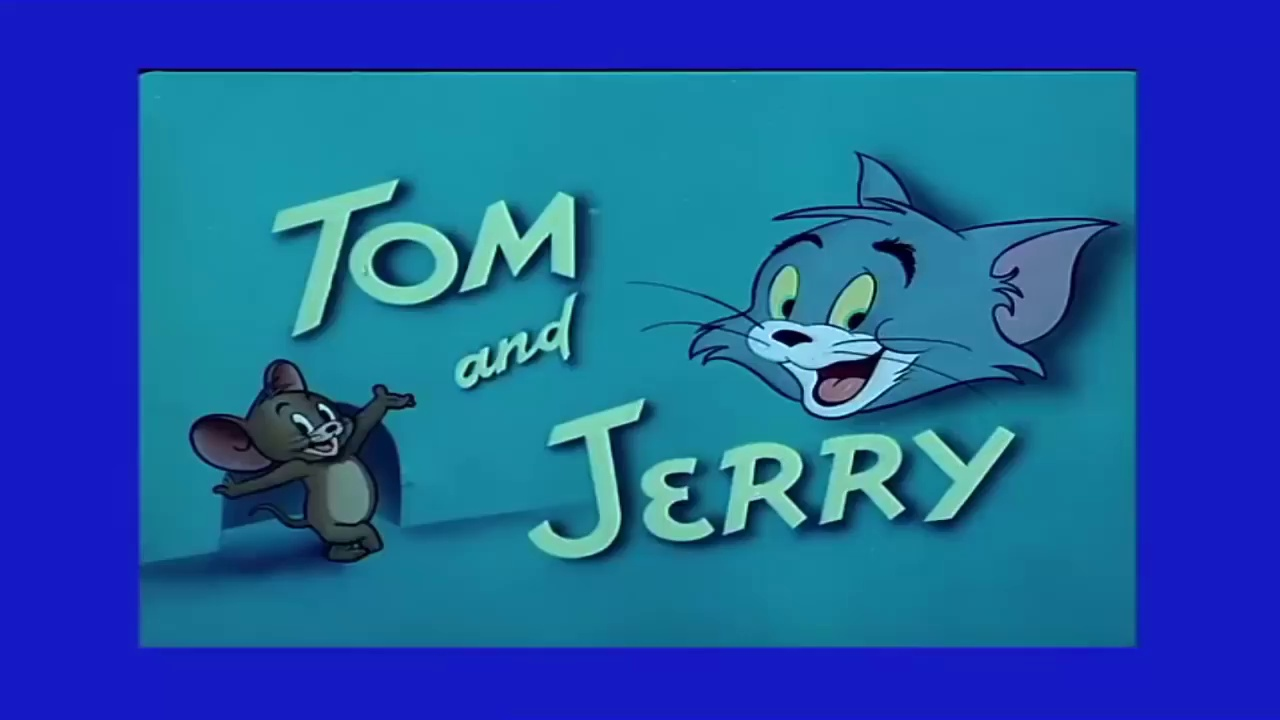tom: (681, 146, 1124, 420)
